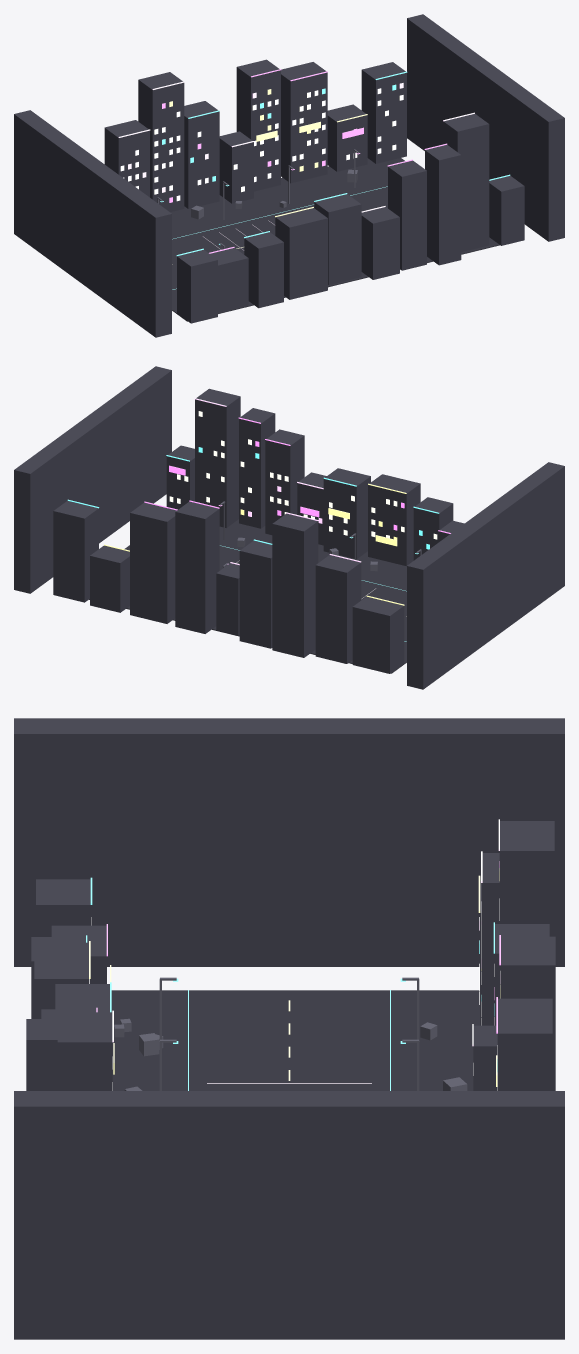
The model's file is arena.glb.
The picture shows the model from 3 angles, top to bottom: view 1: azimuth 30°, elevation 25°; view 2: azimuth 150°, elevation 25°; view 3: azimuth 270°, elevation 25°; orthographic projection. The views are drawn at different scales.
Parts seen in each view (by area): view 1: Cube.235, Cube.236, Cube, Cube.194, Cube.137, Cube.095, Cube.173, Cube.085, Cube.045, Cube.223, Cube.160, Cube.074 (+9 smaller); view 2: Cube.235, Cube.236, Cube.137, Cube.173, Cube.095, Cube.194, Cube.121, Cube.223, Cube.045, Cube.112, Cube, Cube.059 (+8 smaller); view 3: Cube.236, Cube.235, Cube, Cube.137, Cube.194, Cube.095, Cube.173, Cube.045, Cube.025, Cube.121, Cube.085, Cube.169 (+3 smaller).
Part boxes in pixels (<box>): Cube.235: <box>14,110,171,337</box>; Cube.236: <box>407,14,564,241</box>; Cube: <box>170,158,499,321</box>; Cube.194: <box>281,62,327,183</box>; Cube.137: <box>138,72,184,212</box>; Cube.095: <box>443,114,489,251</box>; Cube.173: <box>236,59,280,191</box>; Cube.085: <box>425,145,461,265</box>; Cube.045: <box>275,208,327,299</box>; Cube.223: <box>361,62,406,163</box>; Cube.160: <box>184,101,219,208</box>; Cube.074: <box>388,160,426,270</box>; Cube.235: <box>407,462,564,689</box>; Cube.236: <box>14,366,171,593</box>; Cube.137: <box>272,513,318,657</box>; Cube.173: <box>175,501,219,633</box>; Cube.095: <box>195,388,240,527</box>; Cube.194: <box>130,502,176,623</box>; Cube.121: <box>315,555,361,663</box>; Cube.223: <box>53,500,98,602</box>; Cube.045: <box>368,474,420,566</box>; Cube.112: <box>352,596,404,673</box>; Cube: <box>89,519,406,673</box>; Cube.059: <box>323,468,370,559</box>; Cube.236: <box>14,1091,564,1339</box>; Cube.235: <box>14,718,564,966</box>; Cube: <box>111,990,479,1090</box>; Cube.137: <box>499,821,554,936</box>; Cube.194: <box>497,998,552,1090</box>; Cube.095: <box>57,1012,112,1090</box>; Cube.173: <box>500,936,555,1090</box>; Cube.045: <box>34,942,89,1018</box>; Cube.025: <box>36,879,90,936</box>; Cube.121: <box>482,853,499,1025</box>; Cube.085: <box>26,1019,57,1090</box>; Cube.169: <box>473,1025,497,1090</box>.
Bounding box in the file's own units: 50 × 14.98 × 30.
